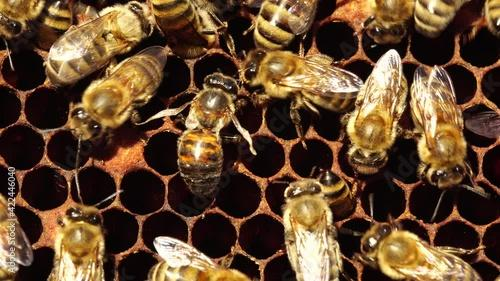worker-bee: (240, 48, 363, 148), (410, 65, 488, 219), (177, 72, 256, 196), (70, 46, 166, 140), (46, 1, 152, 85), (345, 49, 407, 174), (282, 179, 342, 280)
